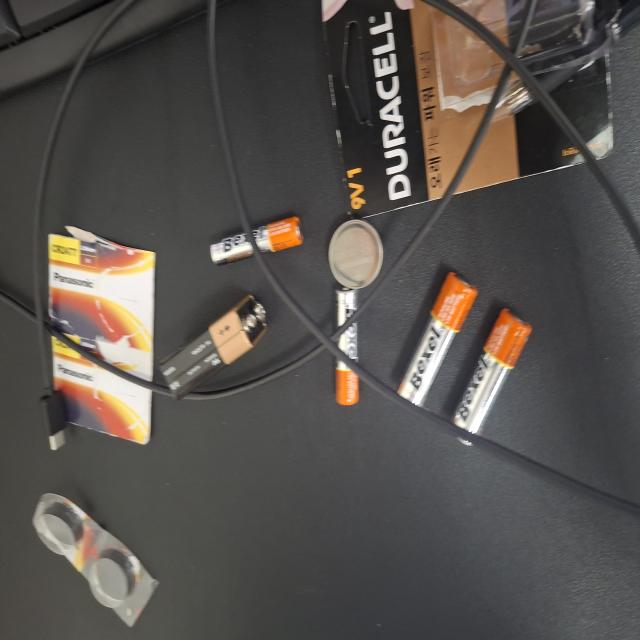9V: (179, 210, 258, 354)
AA: (172, 527, 276, 635), (147, 600, 248, 640)
AAA: (282, 280, 318, 402), (175, 445, 268, 479)
COIN: (262, 434, 316, 513)
